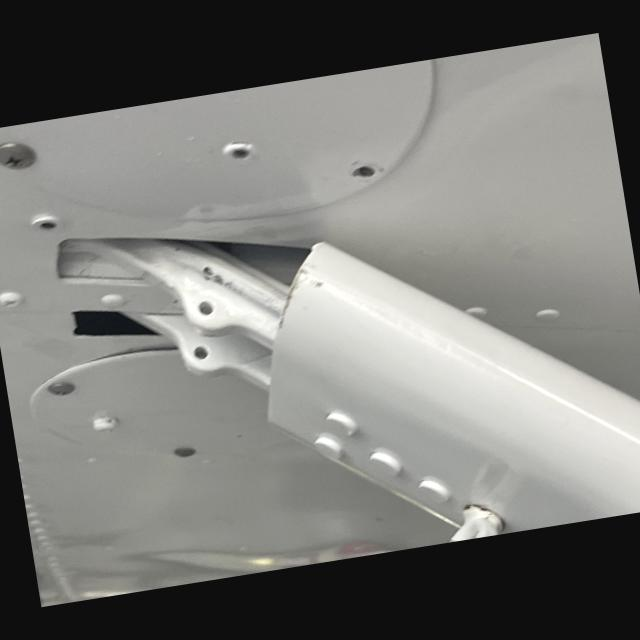Missing Fastener: (339, 156, 388, 187)
